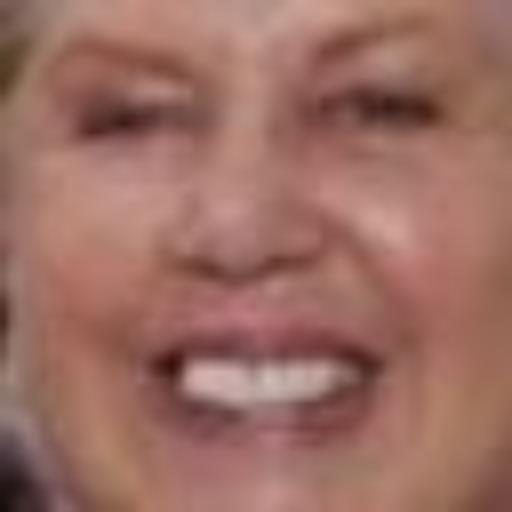left_eye: (319, 85, 446, 135)
left_lip_corner: (358, 342, 409, 382)
right_eye: (74, 95, 183, 142)
right_lip_corner: (138, 345, 183, 392)
